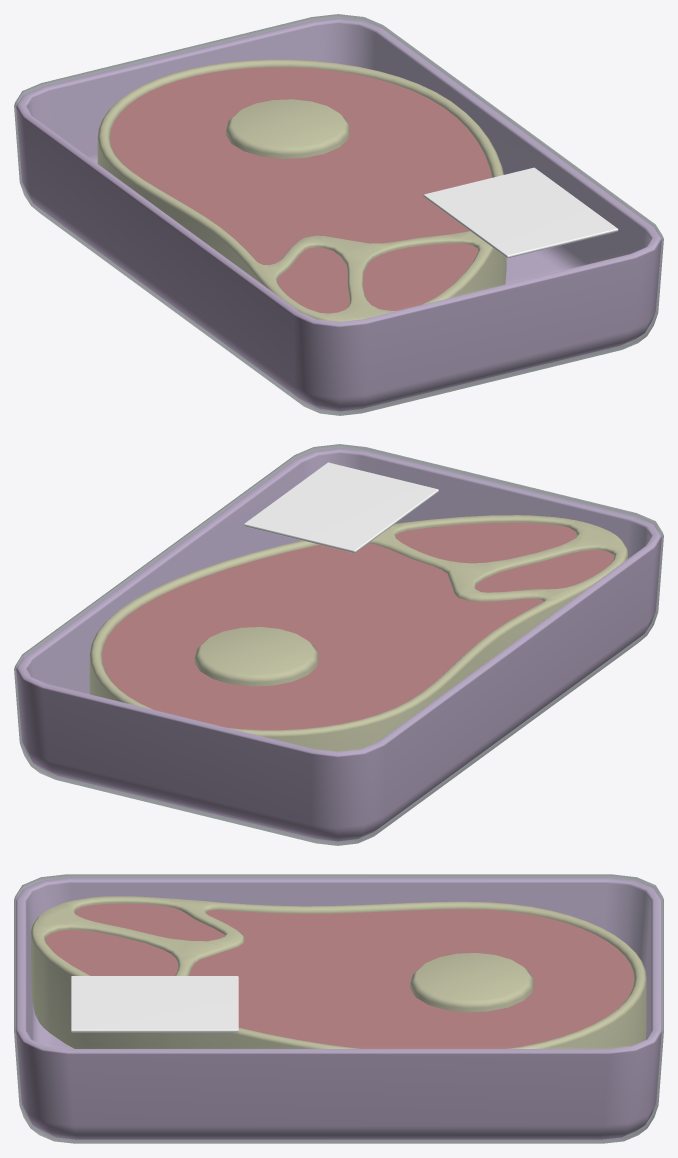
File: Meat.fbx
3 views of the same model, one above another, from view 1: azimuth 30°, elevation 25°; view 2: azimuth 150°, elevation 25°; view 3: azimuth 270°, elevation 25° (orthographic).
Parts seen in each view (by area): view 1: Meat; view 2: Meat; view 3: Meat.
Boxes of the visible parts, bbox=[...] form: Meat: bbox=[14, 14, 663, 415]; Meat: bbox=[14, 444, 663, 845]; Meat: bbox=[14, 874, 663, 1143].
Bounding box in the file's own units: 20.72 × 5.84 × 32.18.
